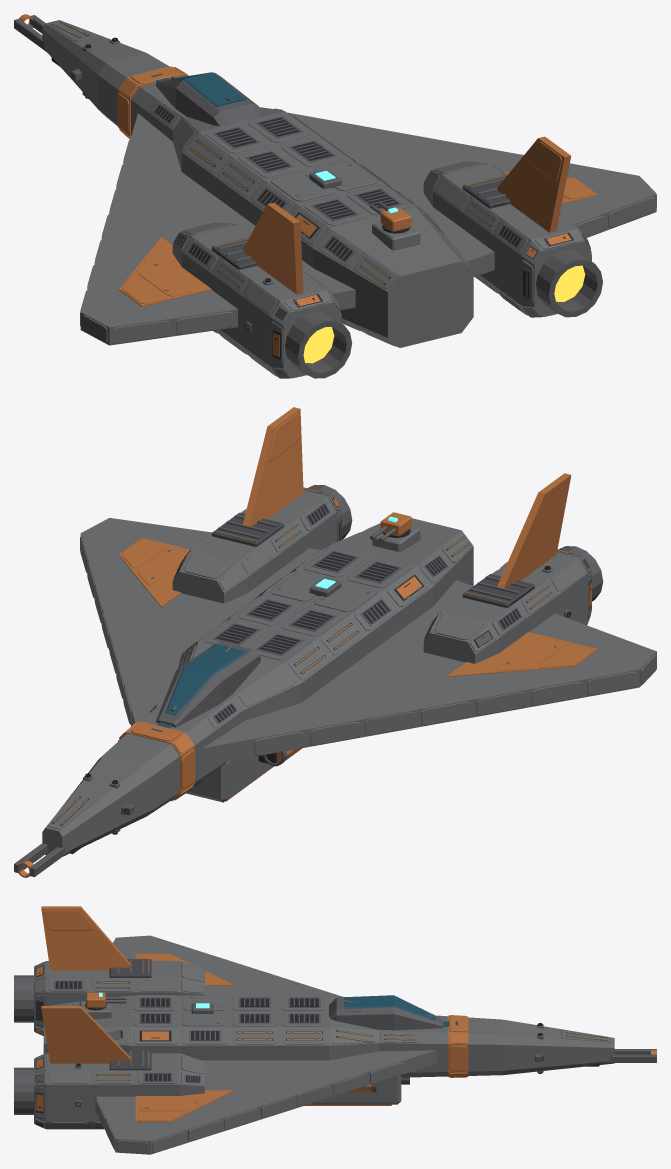
The model's file is mars_assault_t4.glb.
3 renders of one model, top to bottom at view 1: azimuth 30°, elevation 25°; view 2: azimuth 150°, elevation 25°; view 3: azimuth 270°, elevation 25°, orthographic. The views are drawn at different scales.
Visible parts, largest first — view 1: FleetHull, mesh_pd_yaw_0; view 2: FleetHull; view 3: FleetHull.
Boxes of the visible parts, left/top/right/bottom form: FleetHull: left=14, top=14, right=656, bottom=378; mesh_pd_yaw_0: left=380, top=208, right=411, bottom=231; FleetHull: left=14, top=407, right=656, bottom=877; FleetHull: left=14, top=906, right=656, bottom=1154.
Bounding box in the file's own units: 19.66 × 6.22 × 25.9.
